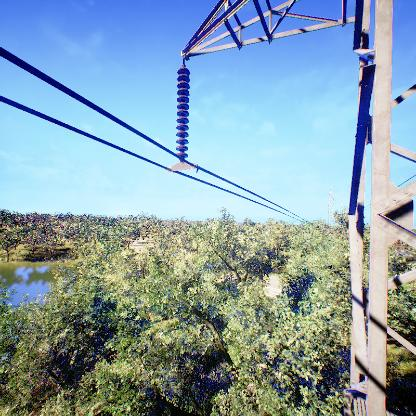insulator: (174, 66, 193, 161)
